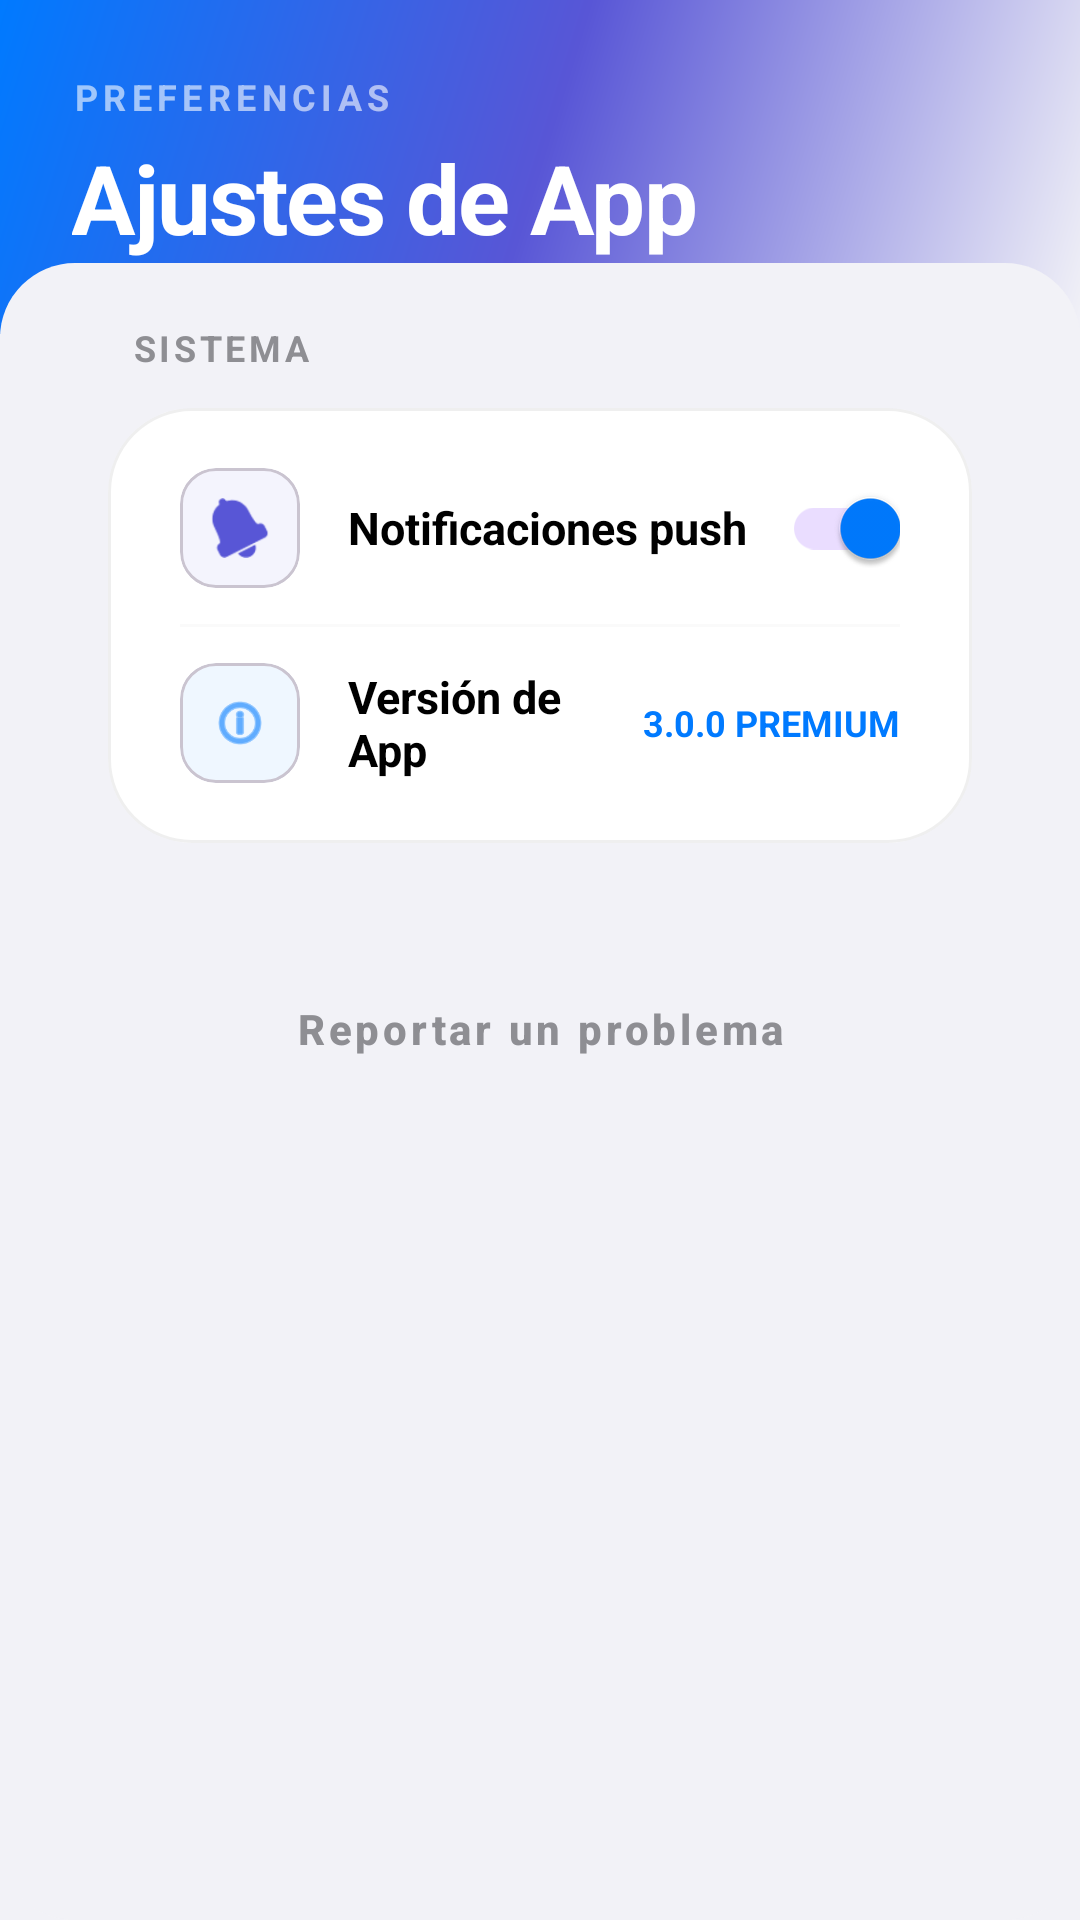

Locate icon controls on the screen. Image size 1080*1920, boxes as (x1, y1, x2, y2).
info details: (218, 701, 262, 745)
popup reminder: (212, 498, 268, 558)
